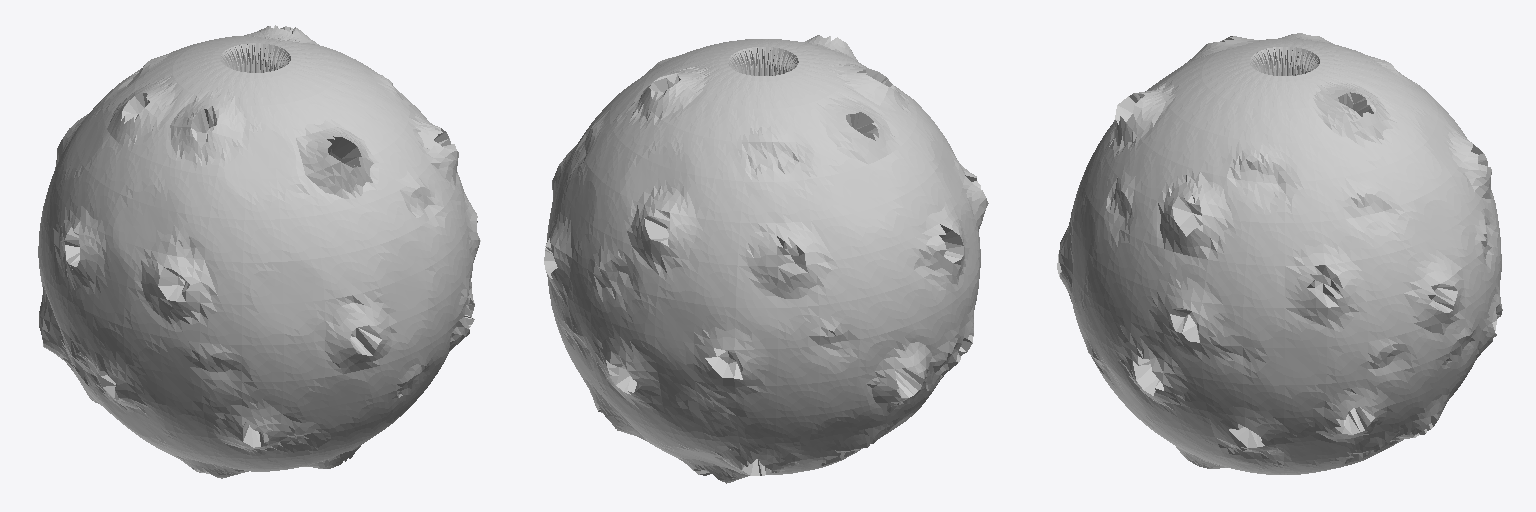
File: planet.OBJ
3 renders of one model, left to right at view 1: azimuth 30°, elevation 25°; view 2: azimuth 150°, elevation 25°; view 3: azimuth 270°, elevation 25°, orthographic.
Visible parts, largest first — view 1: Sphere01; view 2: Sphere01; view 3: Sphere01.
Part boxes in pixels (bbox=[...]): Sphere01: bbox=[38, 25, 480, 478]; Sphere01: bbox=[544, 35, 988, 483]; Sphere01: bbox=[1057, 33, 1502, 474].
Bounding box in the file's own units: 73.89 × 72.73 × 75.04.